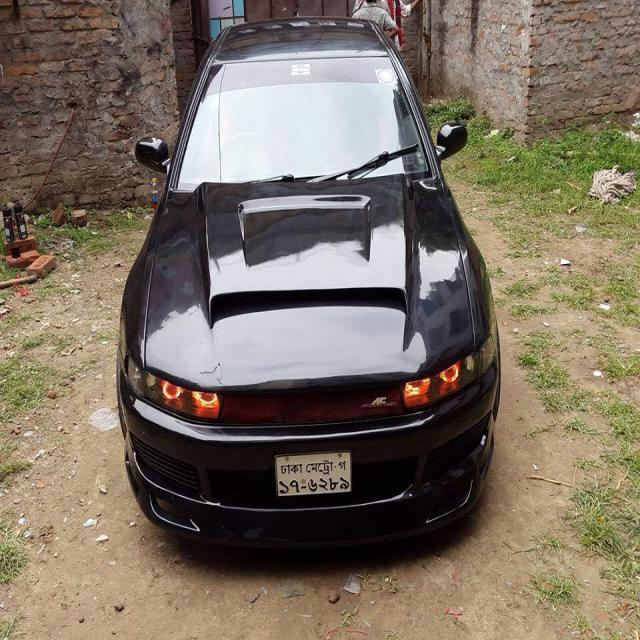numberplate: (273, 449, 353, 498)
